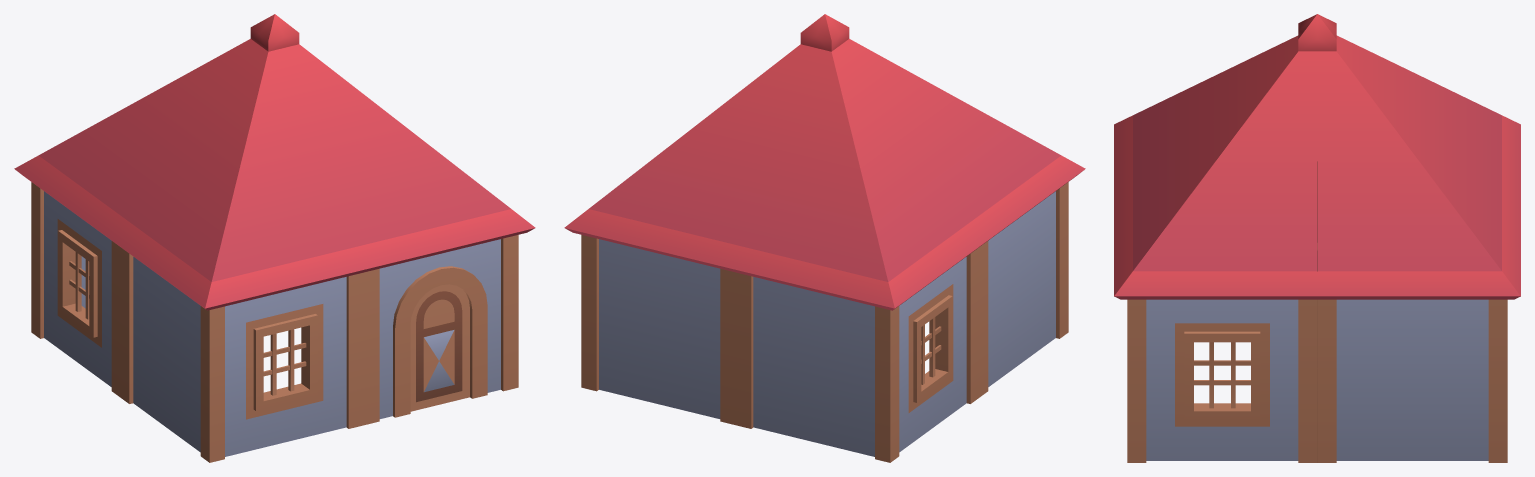
File: house_small.glb
The picture shows the model from 3 angles, left to right: view 1: azimuth 30°, elevation 25°; view 2: azimuth 150°, elevation 25°; view 3: azimuth 270°, elevation 25°; orthographic projection. The views are drawn at different scales.
Visible parts, largest first — view 1: house_small; view 2: house_small; view 3: house_small.
Boxes of the visible parts, left/top/right/bottom form: house_small: left=14, top=14, right=535, bottom=462; house_small: left=564, top=14, right=1085, bottom=462; house_small: left=1114, top=14, right=1520, bottom=462.
Size of the model in its own units: 6.42 by 6.42 by 6.42.
12 materials, 12 textured.
